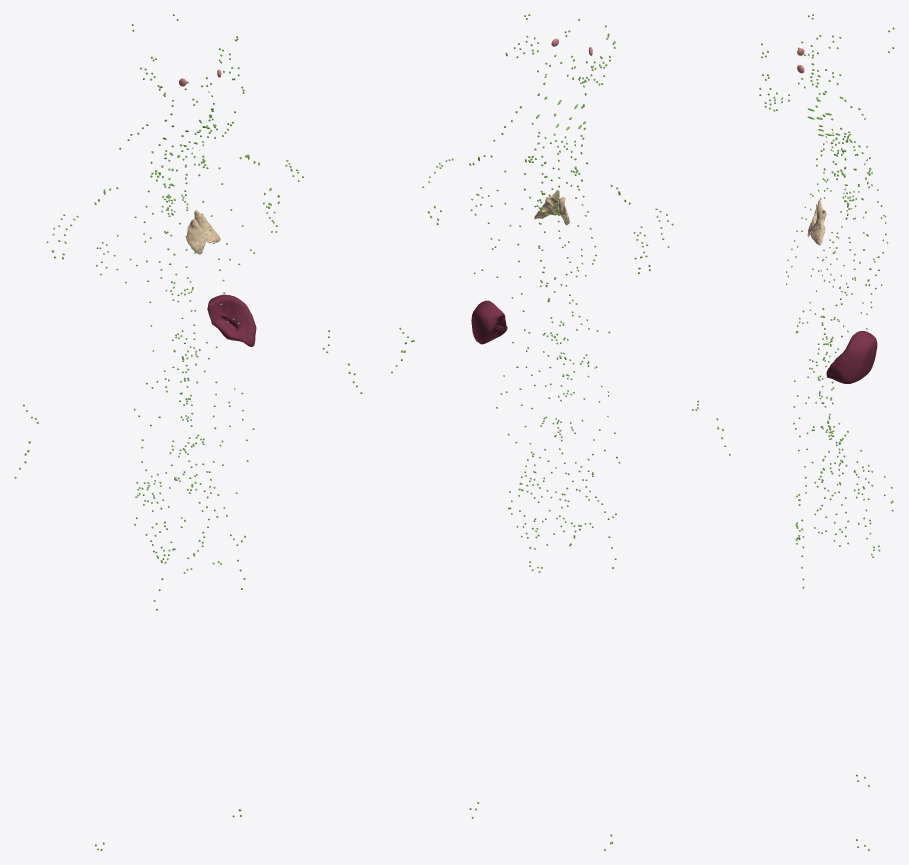
The model's file is male-lymphatic.glb.
The picture shows the model from 3 angles, left to right: view 1: azimuth 30°, elevation 25°; view 2: azimuth 150°, elevation 25°; view 3: azimuth 270°, elevation 25°; orthographic projection. The views are drawn at different scales.
Parts seen in each view (by area): view 1: Spleen; view 2: Spleen; view 3: Spleen, Left_lobe_of_thymus.
Part boxes in pixels (left/top/right/bottom): Spleen: left=207, top=294, right=256, bottom=346; Spleen: left=471, top=300, right=507, bottom=344; Spleen: left=826, top=331, right=877, bottom=383; Left_lobe_of_thymus: left=810, top=199, right=826, bottom=245.
Size of the model in its own units: 0.487 by 1.08 by 0.1689.
